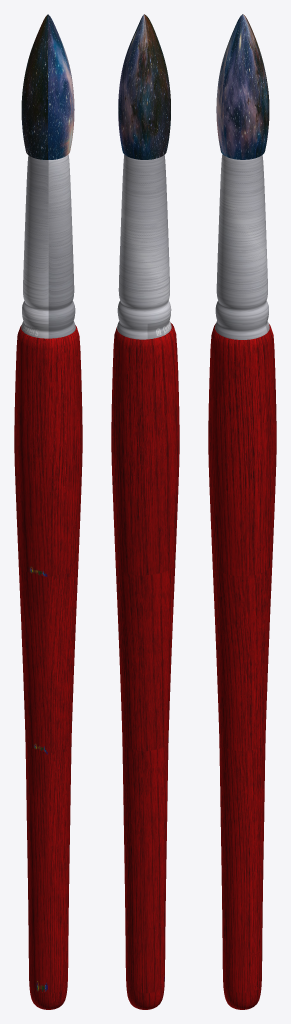
Rendered from paintbrush_space.gltf.
The picture shows the model from 3 angles, left to right: view 1: azimuth 90°, elevation 25°; view 2: azimuth 210°, elevation 25°; view 3: azimuth 270°, elevation 25°; orthographic projection.
Parts seen in each view (by area): view 1: Plane, Plane.001, brush; view 2: Plane, Plane.001, brush; view 3: Plane, Plane.001, brush.
Boxes of the visible parts, x1,y1,x2,y2 form: Plane: (14,325,82,1009); Plane.001: (21,154,75,338); brush: (21,14,74,159); Plane: (111,322,179,1009); Plane.001: (117,154,171,339); brush: (118,14,170,159); Plane: (208,323,276,1009); Plane.001: (215,154,269,339); brush: (216,14,269,159).
Size of the model in its own units: 0.1883 by 3.02 by 0.188.
Materials: 3 (3 with a texture image).
